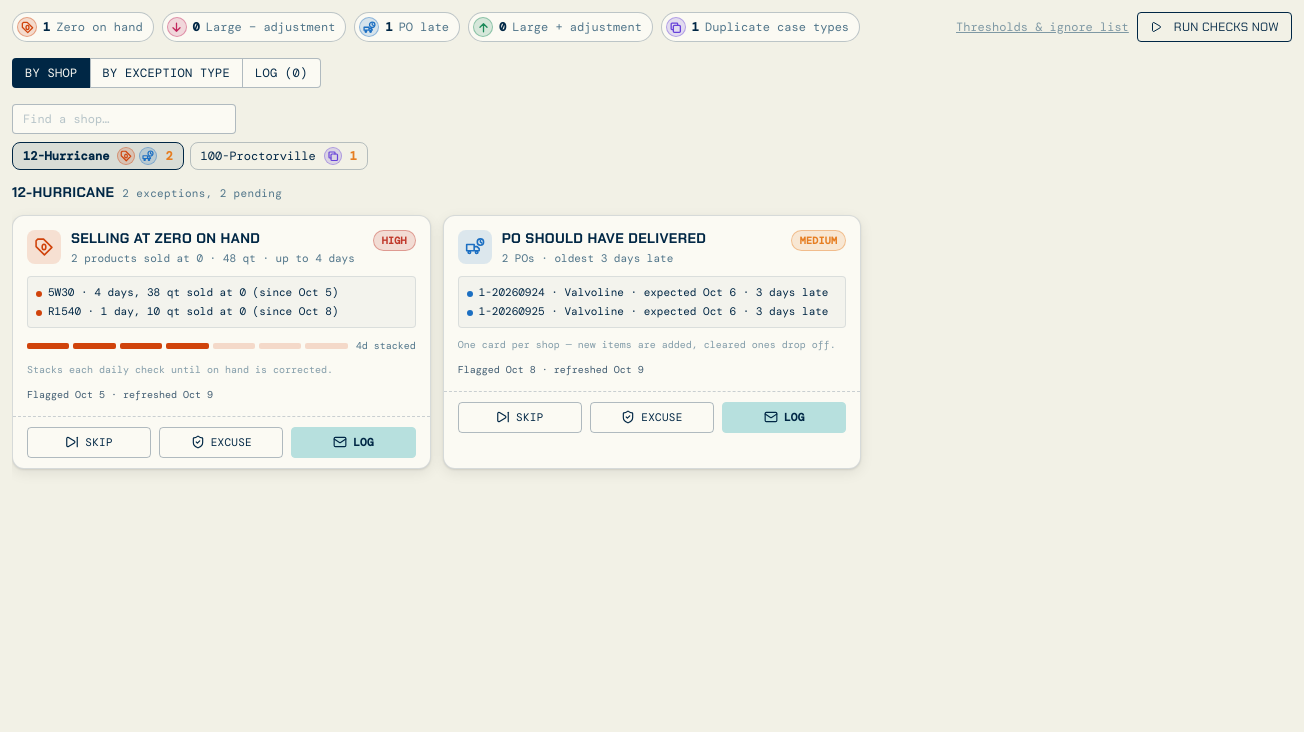
Scenario: shop exceptions › the triage view groups by shop and by type, with one card per shop per type
Expected: the text "12-Hurricane" is shown, [23,148,109,164]
Expected: the heading "Selling at zero on hand" is shown, [71,229,260,247]
Click the button "By exception type" at (166, 73), box [90,58,243,88]
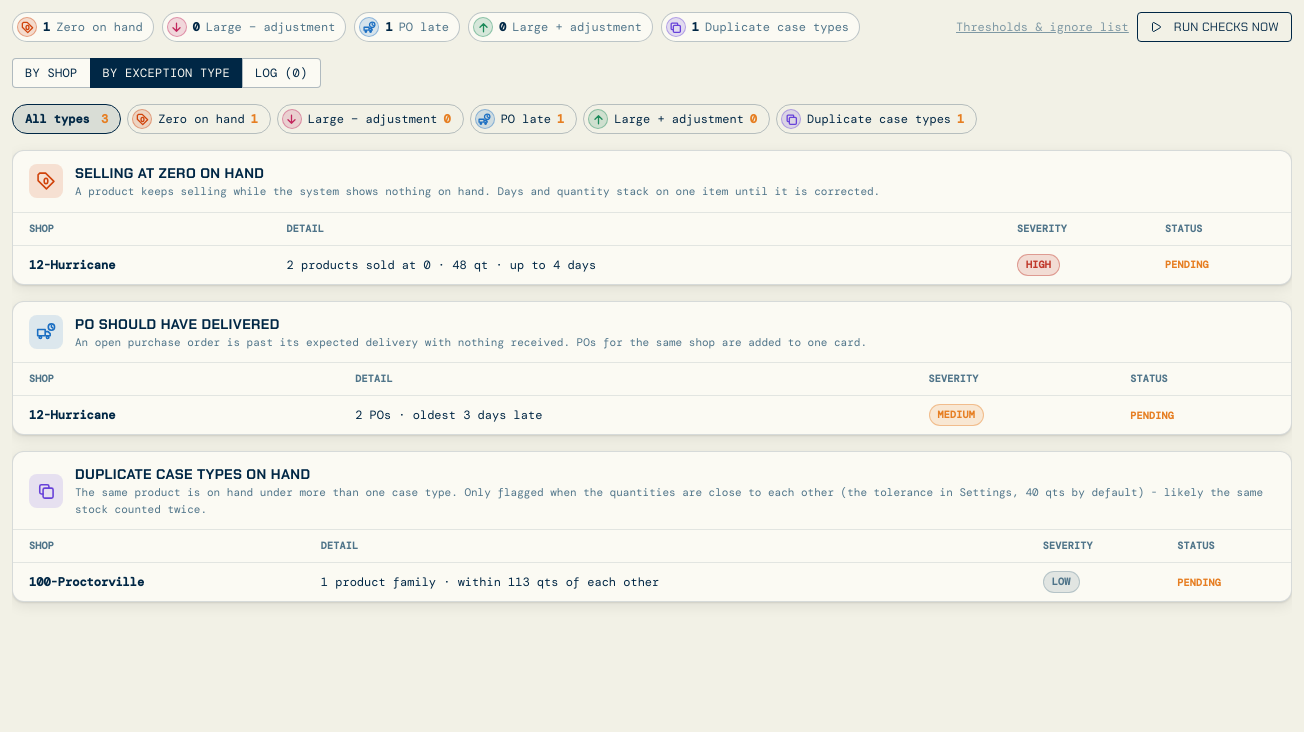
Expected: the text "100-Proctorville" is shown, [13,562,313,601]
Now the heading "Duplicate case types on hand" is shown, box [75,465,310,483]
